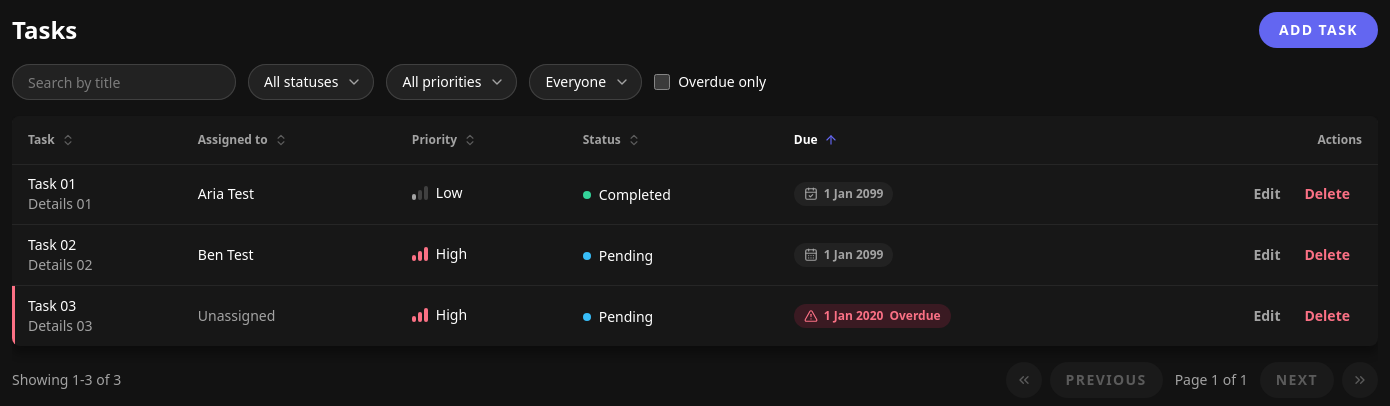
TasksPage: filters › searches by title after a short pause, and says so when nothing matches
Expected: the text "Task 01" is shown, x1=28 y1=174 x2=76 y2=193
Type "task 02" into the search field named "Search tasks" at (124, 82), box x1=12 y1=64 x2=236 y2=100
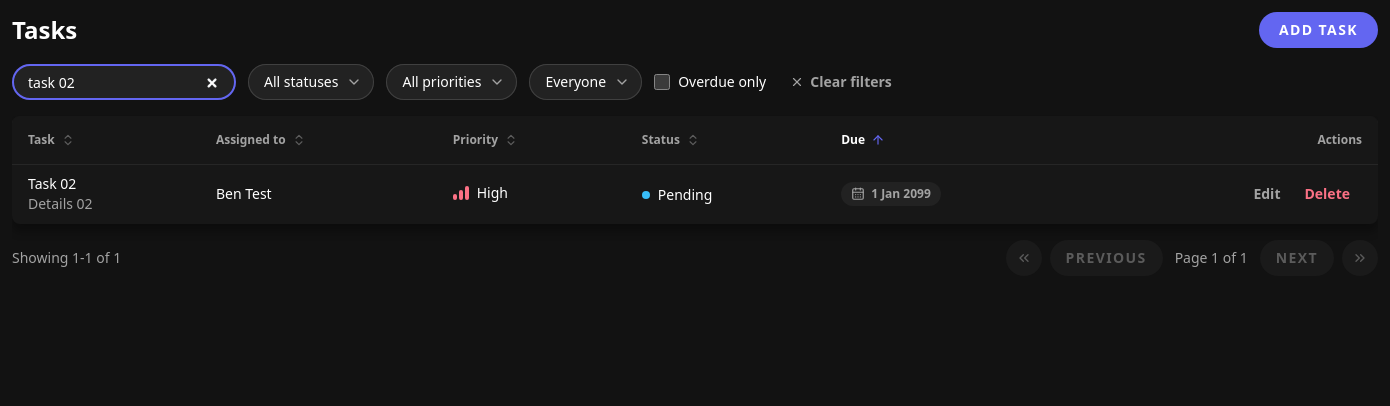
Replace the text in the search field named "Search tasks" with "zzz" at (124, 82), box x1=12 y1=64 x2=236 y2=100
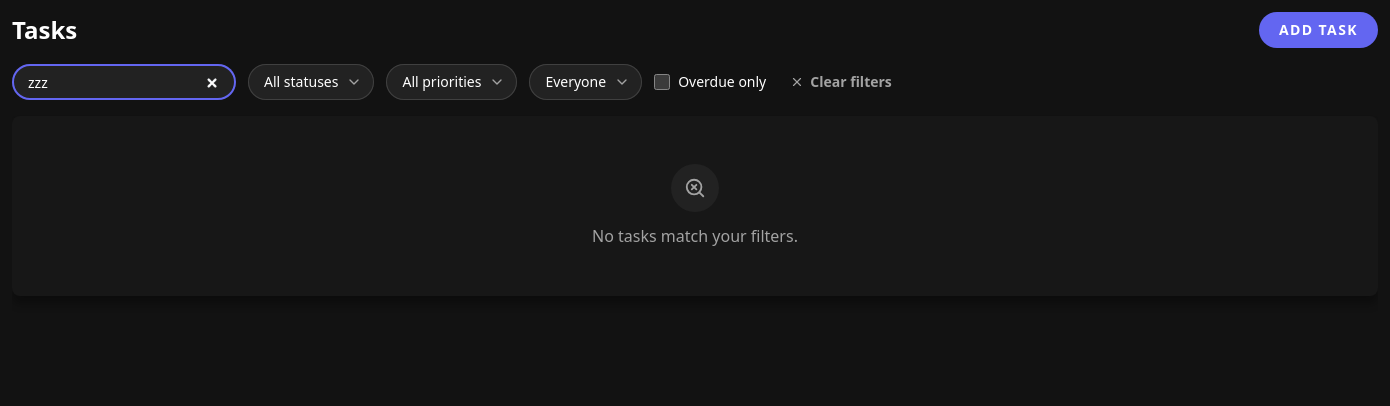
Now the text "No tasks match your filters." is shown, box x1=592 y1=224 x2=798 y2=248
